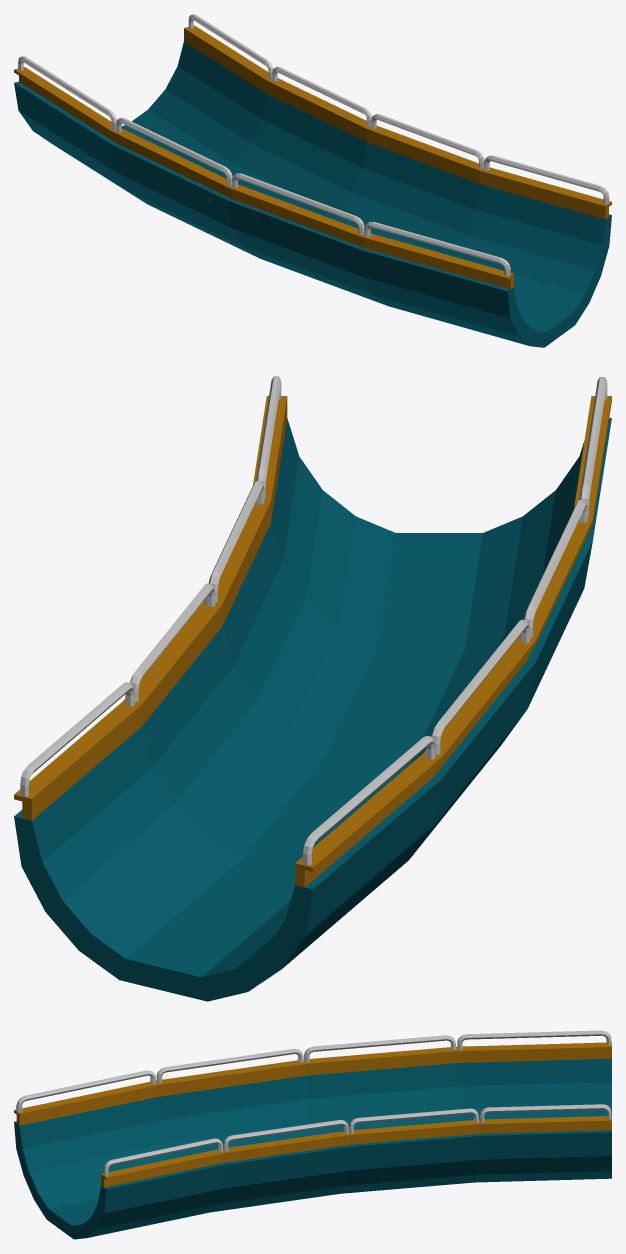
The model's file is halfpipe-curveLeft-30_m.FBX.
3 renders of one model, top to bottom at view 1: azimuth 30°, elevation 25°; view 2: azimuth 150°, elevation 25°; view 3: azimuth 270°, elevation 25°, orthographic. The views are drawn at different scales.
Parts seen in each view (by area): view 1: halfpipe-curveLeft-30_m, wall_r, wall_l; view 2: halfpipe-curveLeft-30_m, wall_l, wall_r; view 3: halfpipe-curveLeft-30_m, wall_r, wall_l.
Boxes of the visible parts, <box> form: halfpipe-curveLeft-30_m: <box>14,41,611,347</box>; wall_r: <box>14,56,513,289</box>; wall_l: <box>184,14,611,219</box>; halfpipe-curveLeft-30_m: <box>14,418,611,1001</box>; wall_l: <box>14,376,287,820</box>; wall_r: <box>295,377,611,887</box>; halfpipe-curveLeft-30_m: <box>14,1058,611,1239</box>; wall_r: <box>14,1030,611,1125</box>; wall_l: <box>101,1104,611,1187</box>.
Size of what is drawn, in the model's own units: 222 by 414 by 75.73.
